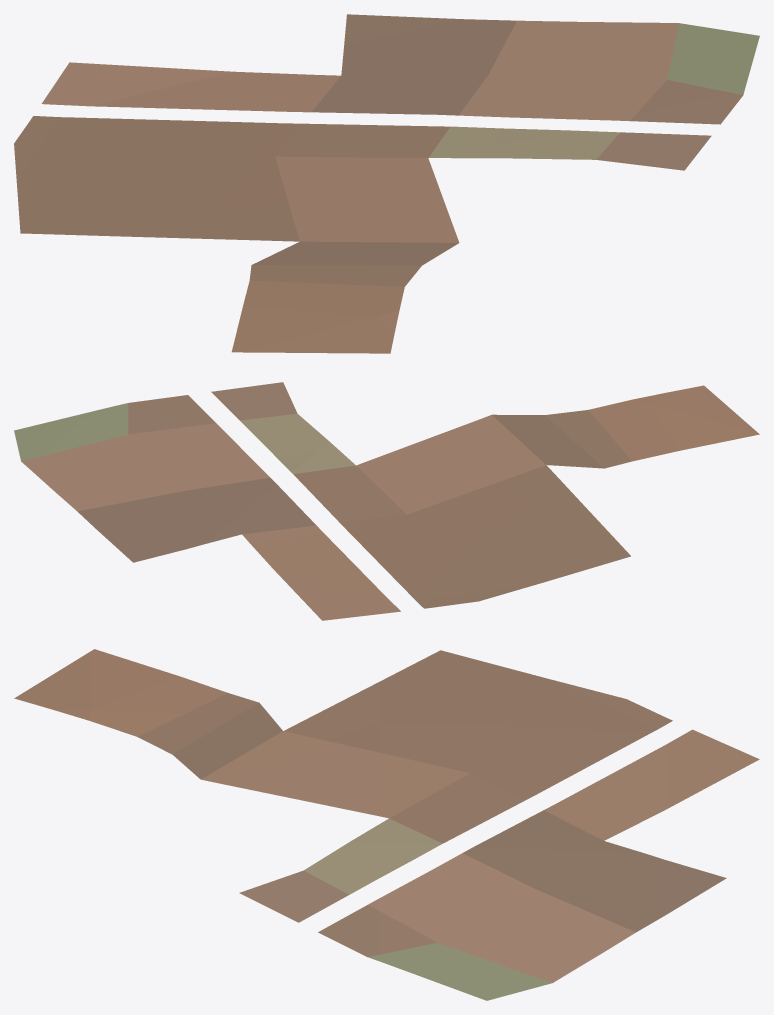
Rendered from farm_25_12_soil.glb.
3 views of the same model, one above another, from view 1: azimuth 30°, elevation 25°; view 2: azimuth 150°, elevation 25°; view 3: azimuth 270°, elevation 25° (orthographic). The views are drawn at different scales.
Visible parts, largest first — view 1: geometry_0; view 2: geometry_0; view 3: geometry_0.
Part boxes in pixels (x1,y1,x2,y2): geometry_0: [14, 14, 759, 353]; geometry_0: [14, 382, 759, 620]; geometry_0: [14, 649, 759, 1000].
Bounding box in the file's own units: 227 × 7.94 × 208.
